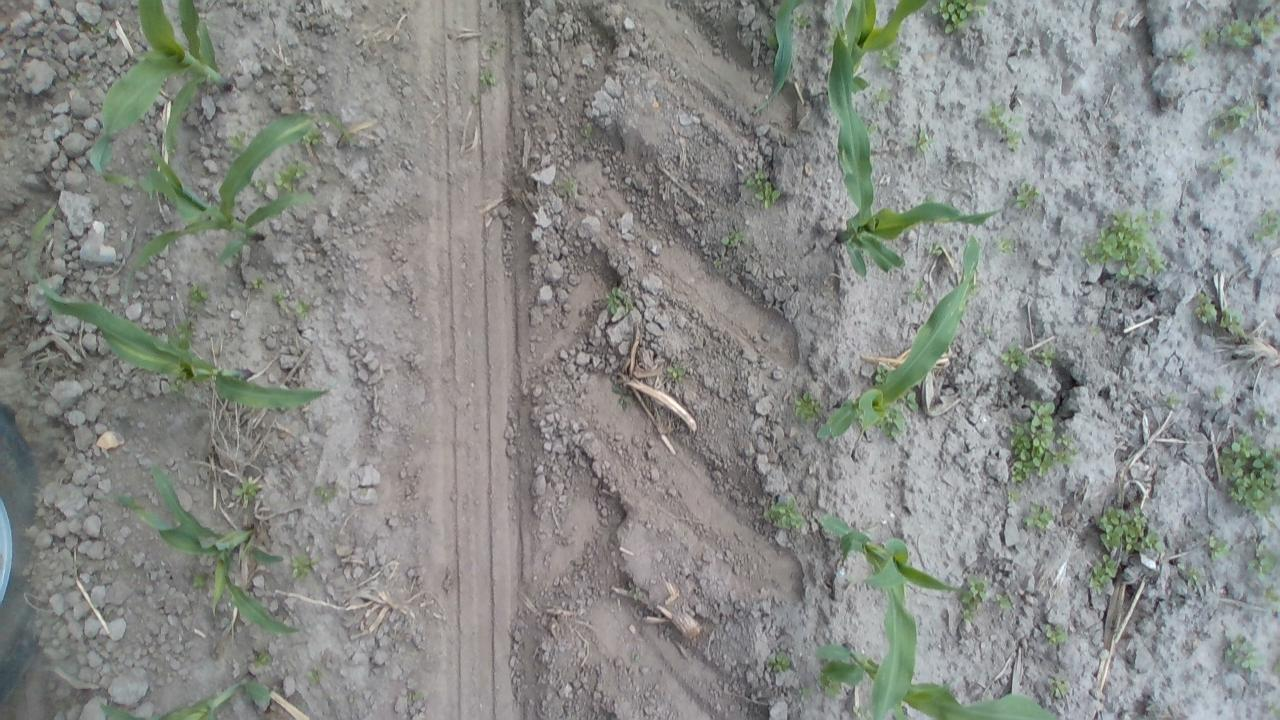Maize: (20, 193, 342, 413), (818, 7, 1012, 286), (118, 104, 346, 278), (105, 461, 313, 644), (814, 231, 985, 446), (816, 507, 975, 720), (91, 0, 240, 192), (812, 635, 1061, 719), (89, 663, 288, 720), (834, 0, 932, 92), (750, 0, 811, 118)
Weeds: (1004, 394, 1080, 493), (1078, 203, 1172, 281), (1218, 430, 1276, 521), (1094, 505, 1163, 558), (982, 98, 1024, 152), (1190, 289, 1240, 334), (1207, 99, 1258, 141), (931, 0, 990, 36), (742, 166, 784, 210), (1221, 631, 1263, 675), (956, 574, 990, 622), (1218, 15, 1259, 52), (764, 496, 806, 532), (1086, 552, 1122, 594), (1206, 303, 1246, 338), (272, 158, 310, 194), (1244, 541, 1276, 578), (1024, 501, 1058, 532), (600, 285, 630, 320), (878, 406, 908, 440), (1012, 179, 1042, 210), (794, 391, 824, 420), (231, 476, 262, 503), (1254, 206, 1276, 243), (1206, 532, 1233, 562), (289, 552, 316, 581), (1174, 559, 1202, 586), (999, 344, 1026, 372), (1255, 11, 1279, 42), (1208, 384, 1237, 408), (1045, 673, 1071, 699), (879, 48, 904, 75), (227, 130, 251, 157), (184, 282, 210, 306), (908, 278, 932, 304), (821, 674, 844, 701), (76, 18, 110, 36), (768, 651, 794, 674), (910, 128, 931, 156), (1043, 624, 1069, 646), (1211, 152, 1239, 172), (1036, 343, 1058, 368), (1174, 44, 1198, 66), (824, 25, 841, 56), (314, 481, 339, 502), (177, 319, 195, 346), (558, 176, 579, 199), (924, 238, 948, 258), (66, 63, 86, 87), (720, 229, 744, 248), (479, 66, 498, 90), (871, 86, 893, 106), (1198, 28, 1218, 50), (302, 127, 324, 147), (900, 391, 920, 412), (666, 363, 687, 382), (250, 648, 272, 666), (996, 234, 1016, 253), (190, 569, 210, 588), (270, 289, 289, 309), (872, 366, 891, 386), (614, 389, 634, 408), (1265, 695, 1280, 720), (995, 590, 1012, 612), (967, 271, 980, 299), (792, 12, 812, 30), (404, 689, 426, 705), (1001, 488, 1020, 506), (306, 668, 323, 688), (1164, 391, 1184, 408), (250, 276, 268, 294), (1254, 407, 1271, 426), (764, 28, 776, 54), (296, 298, 310, 320), (168, 376, 186, 393), (851, 705, 874, 718), (628, 584, 644, 602), (250, 177, 268, 193), (796, 682, 810, 702), (1262, 583, 1276, 603), (576, 121, 592, 138), (976, 324, 996, 337), (866, 122, 881, 139), (1086, 323, 1101, 338)
